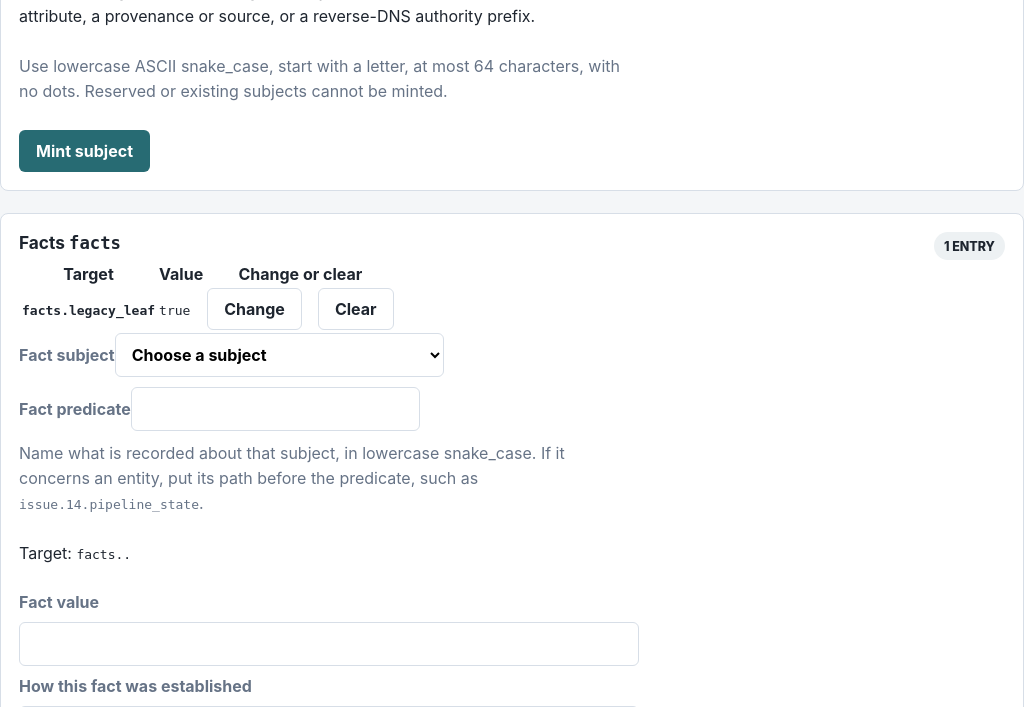
Test: assembles subject and predicate with an optional entity path and sends only an authored value
(page scrolled)
Step 1. Select "operator" in the dropdown labelled "Fact subject" → {"x": 279, "y": 355}, box [115,333,444,377]
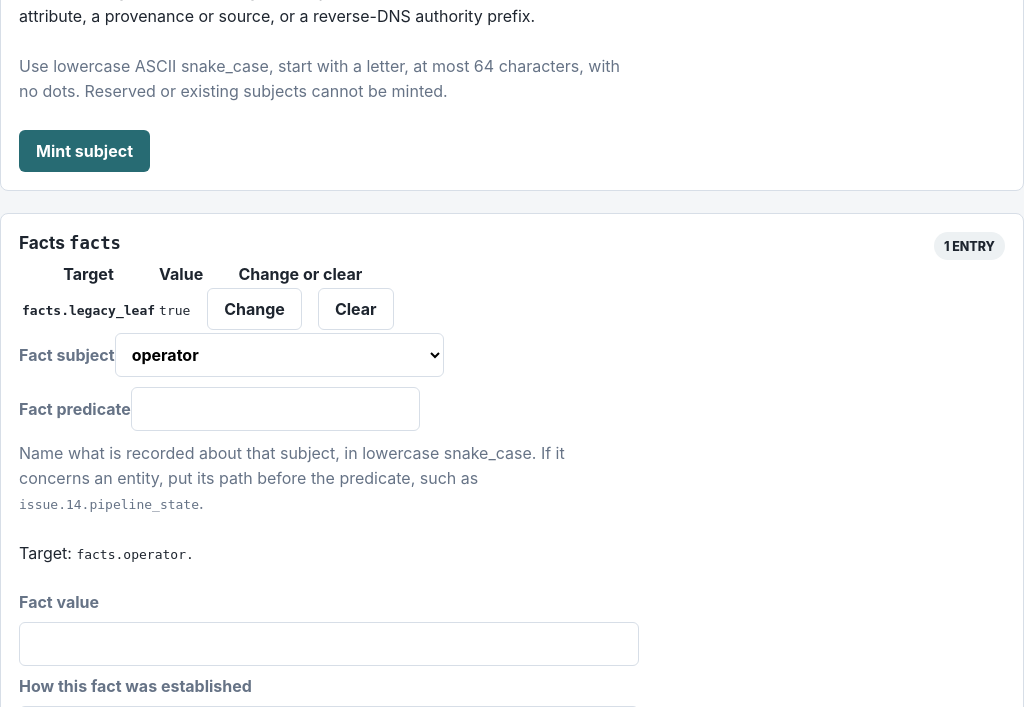
Step 2. Type "work_style" into the field labelled "Fact predicate" → {"x": 275, "y": 409}, box [131,387,420,431]
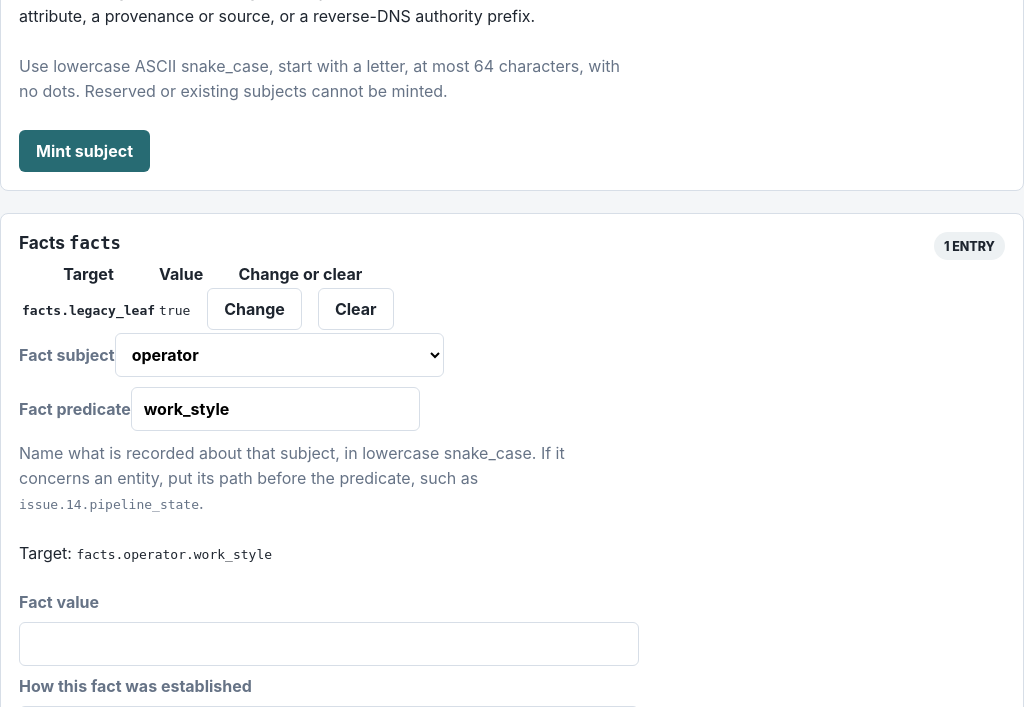
Result: the element named "Fact target" shows "facts.operator.work_style" at [76,548,272,562]
Step 3. Type "synthetic" into the field labelled "Fact value" → {"x": 329, "y": 644}, box [19,622,639,666]
(page scrolled)
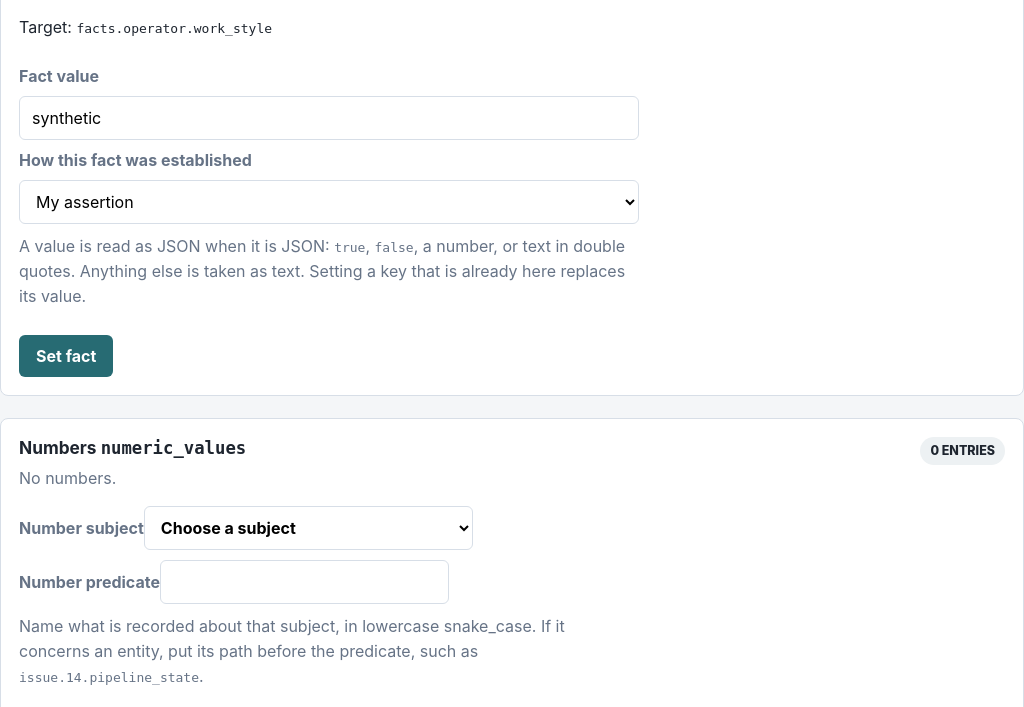
Step 4. Click the button "Set fact" → {"x": 66, "y": 356}, box [19,335,113,377]
(page scrolled)
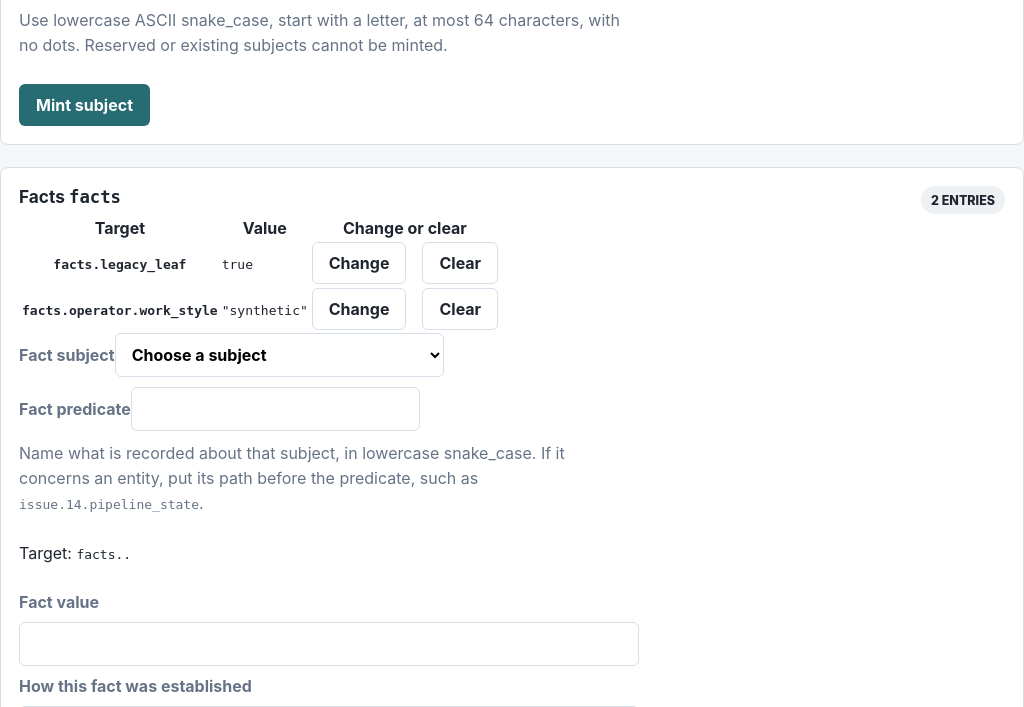
Result: the row "facts.operator.work_style" is shown at [21,287,499,331]
Step 5. Select "github" in the dropdown labelled "Fact subject" → {"x": 279, "y": 355}, box [115,333,444,377]
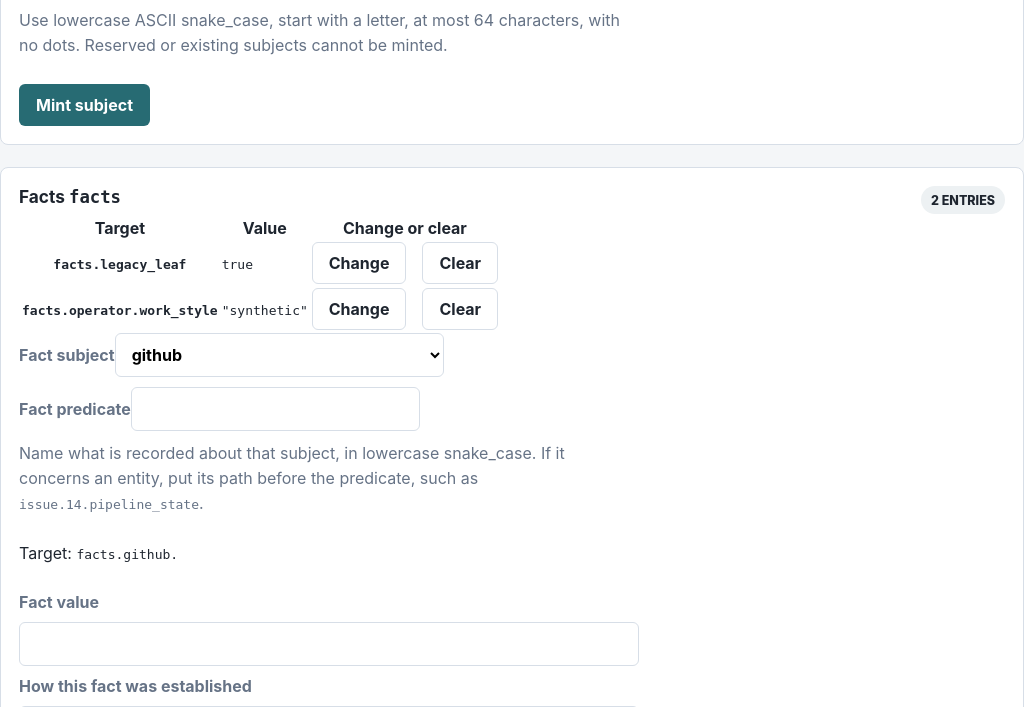
Step 6. Type "issue.14.pipeline_state" into the field labelled "Fact predicate" → {"x": 275, "y": 409}, box [131,387,420,431]
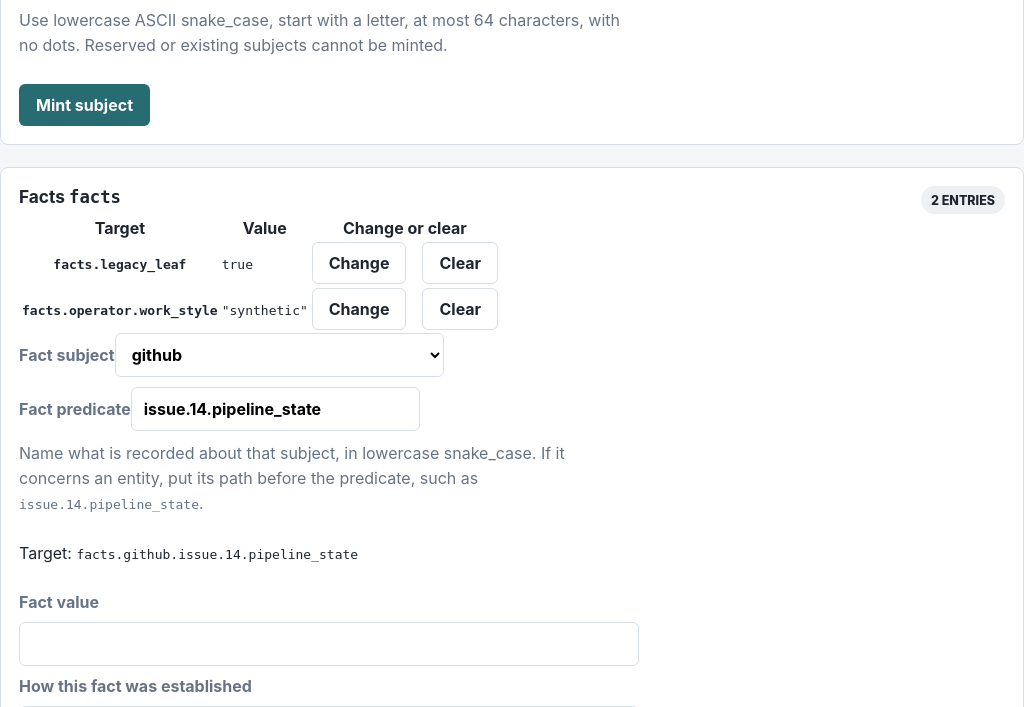
Result: the element named "Fact target" shows "facts.github.issue.14.pipeline_state" at [76,548,358,562]
